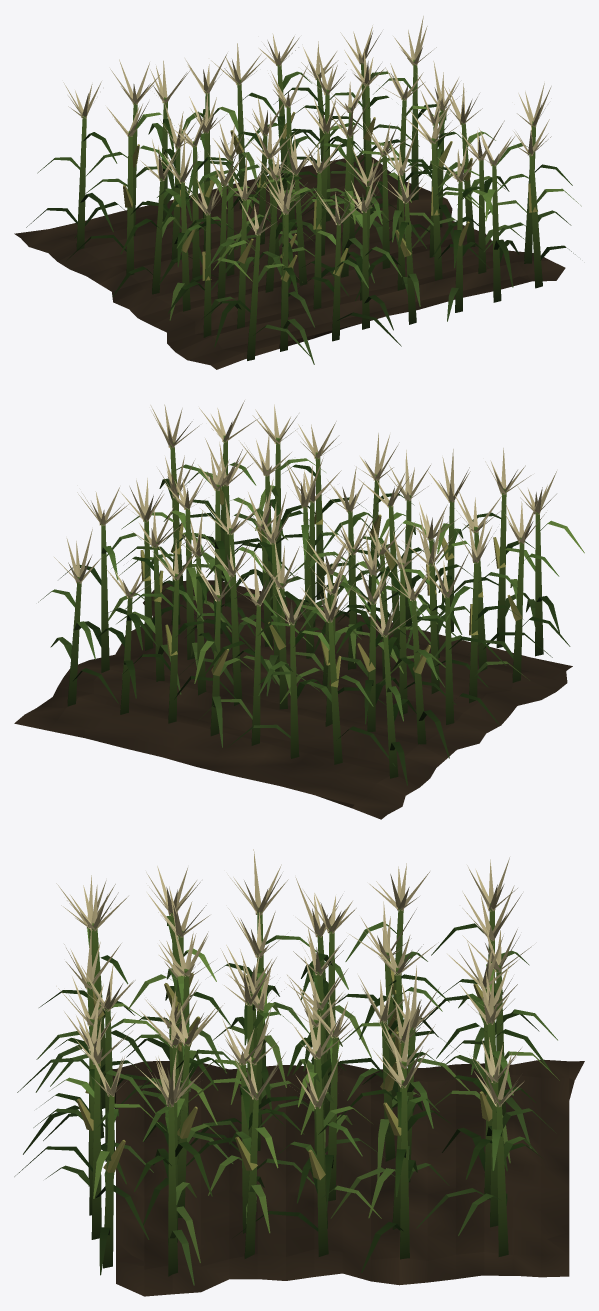
The model's file is Aracrop08.glb.
3 views of the same model, one above another, from view 1: azimuth 30°, elevation 25°; view 2: azimuth 150°, elevation 25°; view 3: azimuth 270°, elevation 25° (orthographic). The views are drawn at different scales.
Visible parts, largest first — view 1: Aracrop08; view 2: Aracrop08; view 3: Aracrop08.
Boxes of the visible parts, x1,y1,x2,y2 form: Aracrop08: (14,16,581,369); Aracrop08: (14,400,584,819); Aracrop08: (14,849,584,1296).
Bounding box in the file's own units: 4.75 × 2.02 × 4.44.
